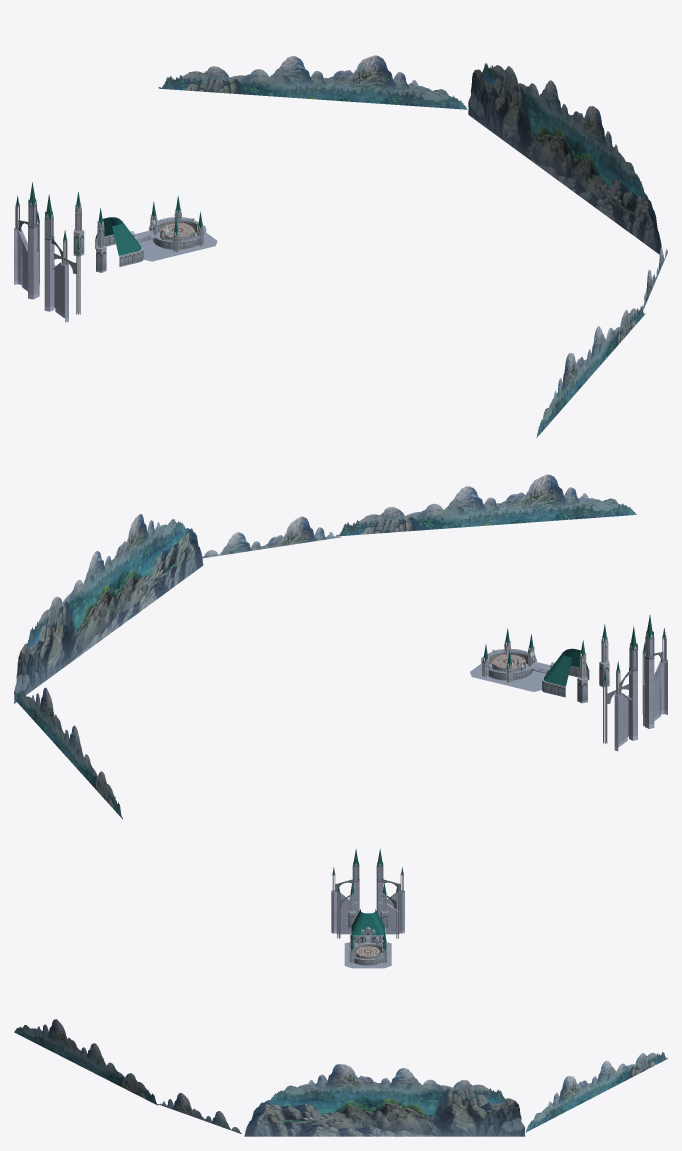
The model's file is PerpStage_S02_01_Church_Roof.fbx.
3 views of the same model, one above another, from view 1: azimuth 30°, elevation 25°; view 2: azimuth 150°, elevation 25°; view 3: azimuth 270°, elevation 25° (orthographic). The views are drawn at different scales.
Visible parts, largest first — view 1: Bg03, Church_Roof3, Church_Roof1; view 2: Bg03, Church_Roof3, Church_Roof1; view 3: Bg03, Church_Roof3, Church_Roof1.
Part boxes in pixels (x1,y1,x2,y2): Bg03: (158, 55, 667, 437); Church_Roof3: (73, 192, 217, 272); Church_Roof1: (14, 182, 80, 322); Bg03: (14, 474, 636, 819); Church_Roof3: (470, 624, 609, 703); Church_Roof1: (603, 615, 667, 751); Bg03: (14, 1019, 667, 1136); Church_Roof3: (344, 883, 391, 968); Church_Roof1: (331, 848, 404, 938).
Size of the model in its own units: 461 by 112 by 665.
4 materials, 4 textured.
